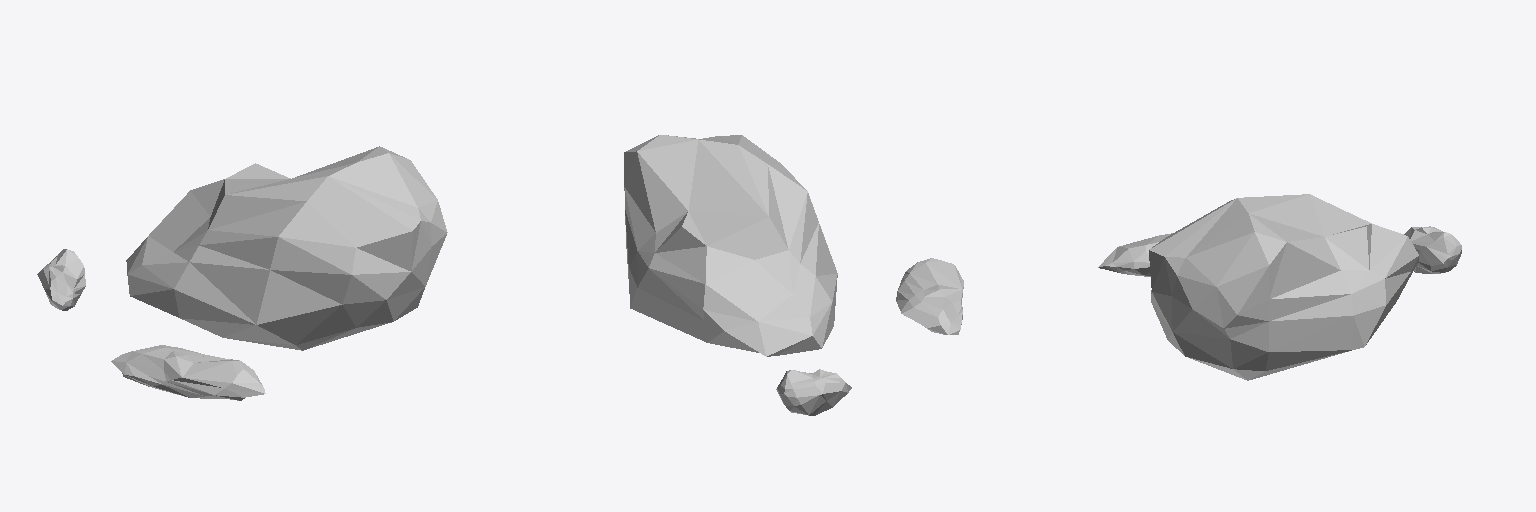
Rendered from RocksBad.obj.
3 renders of one model, left to right at view 1: azimuth 30°, elevation 25°; view 2: azimuth 150°, elevation 25°; view 3: azimuth 270°, elevation 25°, orthographic.
Parts seen in each view (by area): view 1: Cubo_1_Untitled.116, Cubo_2_Untitled.026, Cubo_Untitled.045; view 2: Cubo_1_Untitled.116, Cubo_2_Untitled.026, Cubo_Untitled.045; view 3: Cubo_1_Untitled.116, Cubo_Untitled.045, Cubo_2_Untitled.026.
Boxes of the visible parts, x1=… form: Cubo_1_Untitled.116: x1=126, y1=146, x2=447, y2=350; Cubo_2_Untitled.026: x1=111, y1=345, x2=265, y2=400; Cubo_Untitled.045: x1=37, y1=249, x2=85, y2=310; Cubo_1_Untitled.116: x1=624, y1=135, x2=837, y2=356; Cubo_2_Untitled.026: x1=896, y1=258, x2=963, y2=334; Cubo_Untitled.045: x1=776, y1=369, x2=851, y2=415; Cubo_1_Untitled.116: x1=1149, y1=194, x2=1418, y2=380; Cubo_Untitled.045: x1=1404, y1=226, x2=1461, y2=273; Cubo_2_Untitled.026: x1=1098, y1=233, x2=1172, y2=276.
Bounding box in the file's own units: 2.85 × 1.41 × 2.78.